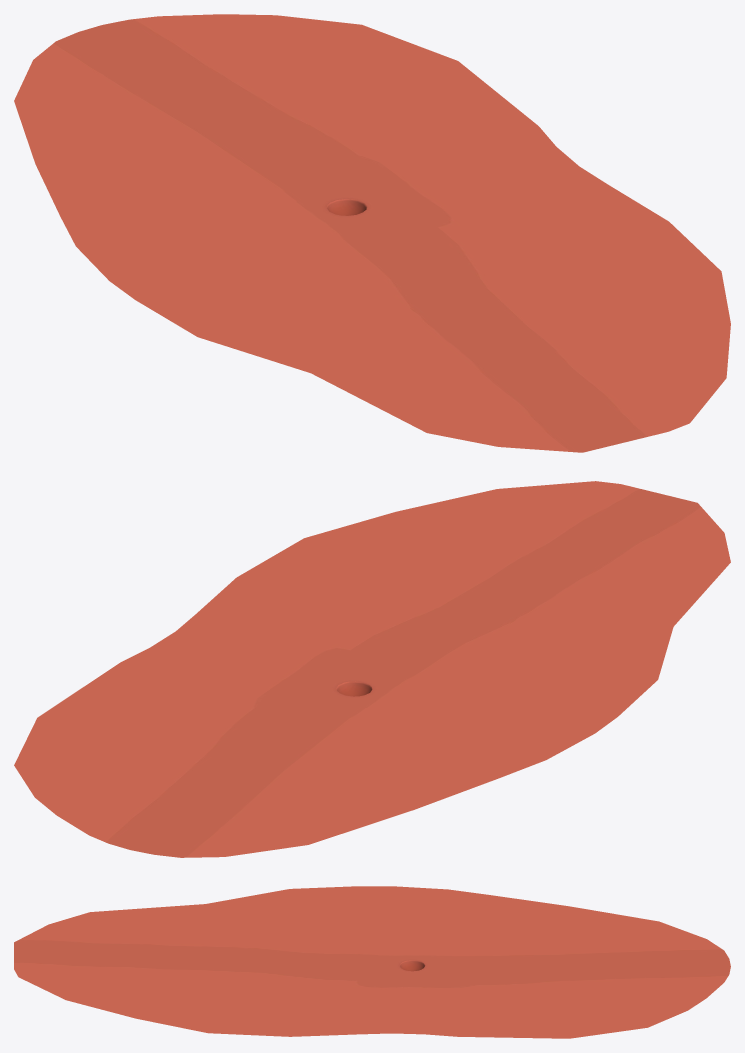
File: san.fbx
The picture shows the model from 3 angles, top to bottom: view 1: azimuth 30°, elevation 25°; view 2: azimuth 150°, elevation 25°; view 3: azimuth 270°, elevation 25°; orthographic projection. The views are drawn at different scales.
Visible parts, largest first — view 1: san1; view 2: san1; view 3: san1.
Part boxes in pixels (x1,y1,x2,y2): san1: (14,14,730,452); san1: (14,481,730,857); san1: (14,886,730,1038).
Size of the model in its own units: 1146 by 23.79 by 2275.
